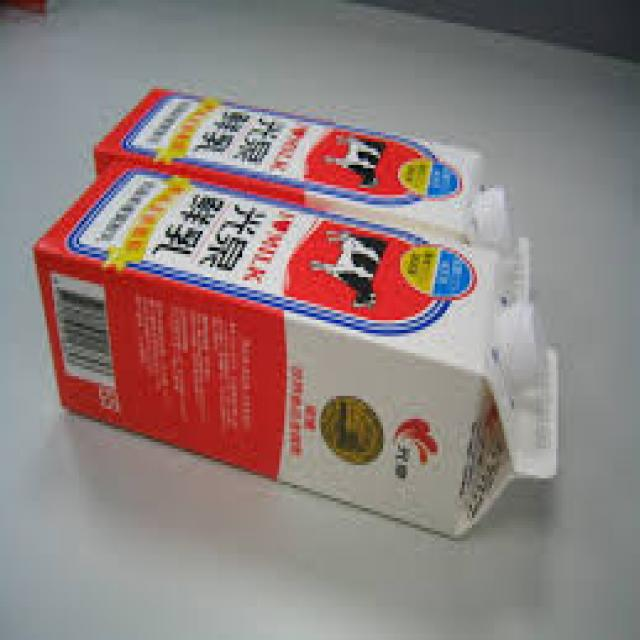non_white_jug: (29, 154, 561, 546), (91, 75, 548, 323)
